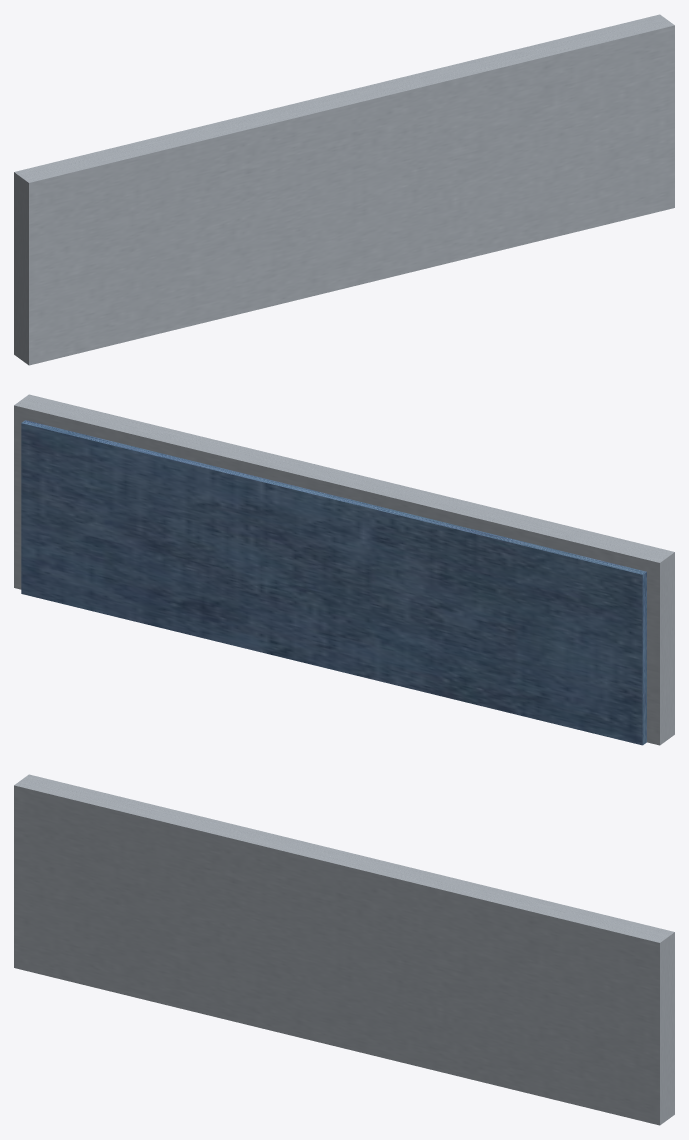
Rendered from tile_wall.FBX.
The picture shows the model from 3 angles, top to bottom: view 1: azimuth 30°, elevation 25°; view 2: azimuth 150°, elevation 25°; view 3: azimuth 330°, elevation 25°; orthographic projection.
Parts seen in each view (by area): view 1: Object001; view 2: Box001, Object001; view 3: Object001.
Boxes of the visible parts, x1,y1,x2,y2 form: Object001: [14, 14, 674, 365]; Box001: [21, 420, 646, 745]; Object001: [14, 394, 674, 745]; Object001: [14, 774, 674, 1125].
Size of the model in its own units: 58.22 by 15.72 by 3.01.
Materials: 2 (2 with a texture image).
